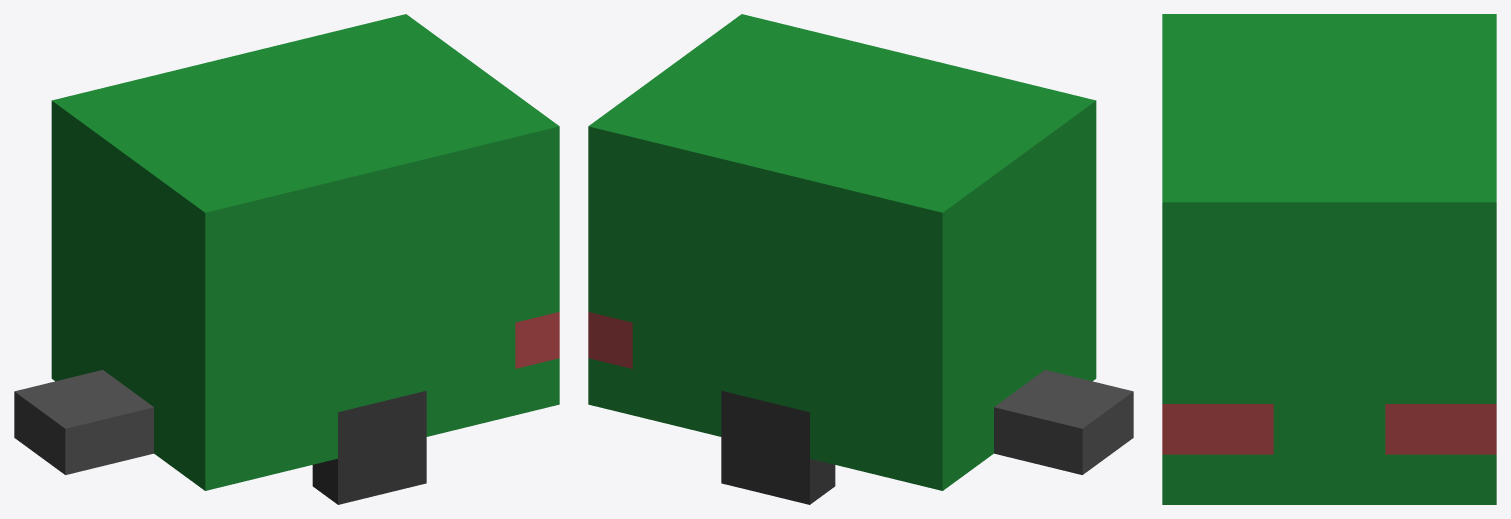
File: car-trailer-v2-green.gltf
3 renders of one model, left to right at view 1: azimuth 30°, elevation 25°; view 2: azimuth 150°, elevation 25°; view 3: azimuth 270°, elevation 25°, orthographic. The views are drawn at different scales.
Parts seen in each view (by area): view 1: model, wheels; view 2: model, wheels; view 3: model.
Part boxes in pixels (<box>): model: <box>14,14,559,490</box>; wheels: <box>312,390,426,504</box>; model: <box>588,14,1133,490</box>; wheels: <box>721,390,835,504</box>; model: <box>1162,14,1496,504</box>.
Size of the model in its own units: 1 by 0.7 by 0.6.
2 materials, 2 textured.
